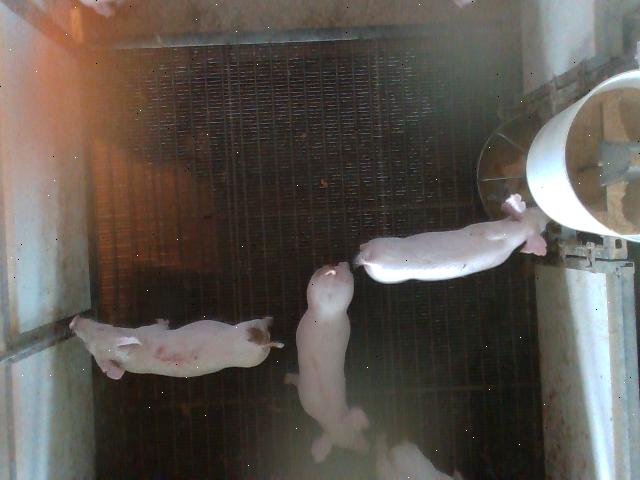pig-5: (70, 317, 282, 379)
